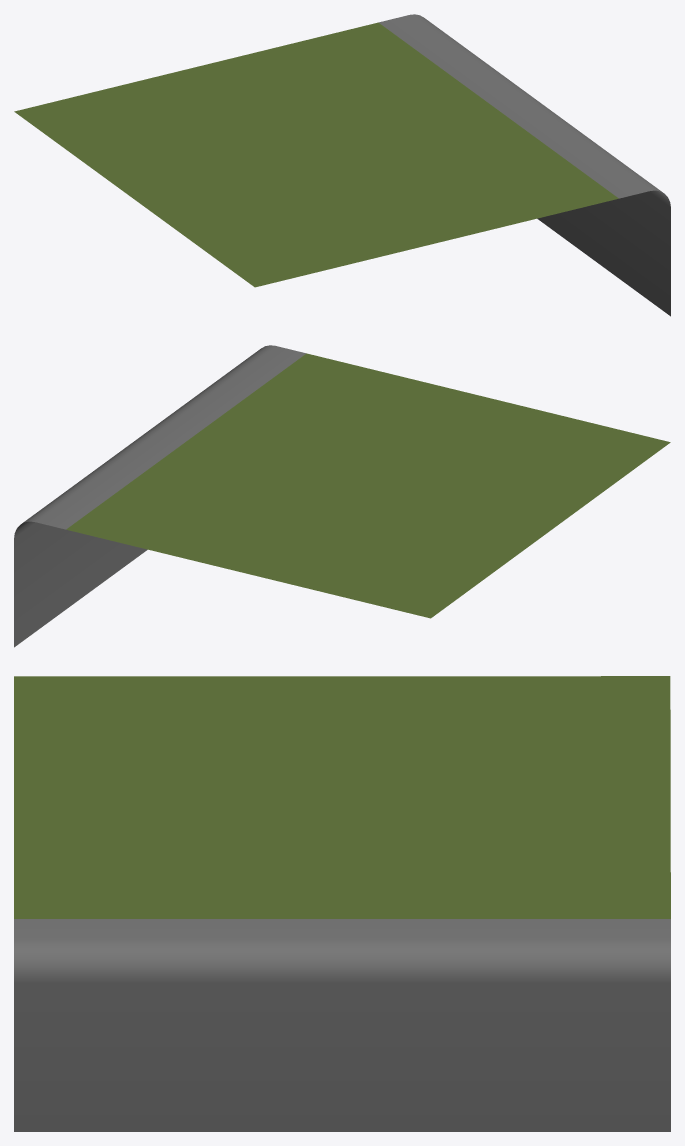
Rendered from ParkingLot_Mound_Middle.fbx.
3 renders of one model, top to bottom at view 1: azimuth 30°, elevation 25°; view 2: azimuth 150°, elevation 25°; view 3: azimuth 270°, elevation 25°, orthographic. The views are drawn at different scales.
Visible parts, largest first — view 1: Side_Middle; view 2: Side_Middle; view 3: Side_Middle.
Boxes of the visible parts, x1,y1,x2,y2 form: Side_Middle: [14, 14, 670, 316]; Side_Middle: [14, 345, 670, 647]; Side_Middle: [14, 676, 670, 1131].
Size of the model in its own units: 100 by 30 by 100.
